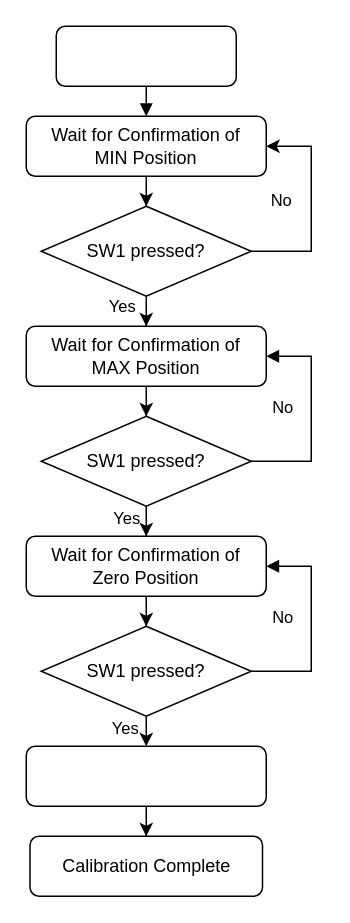
The diagram is 350 pixels wide and 923 high, and some of its shapes have lost their labels. The centre of each missing label's shape, as x and y in pixels:
"Save Values to NVS" belongs at point 145,775.
"Start Calibration" belongs at point 145,55.
